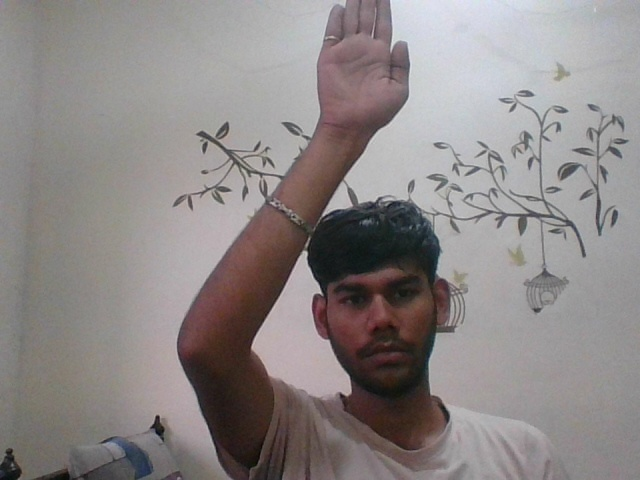Hello: (298, 1, 424, 142)
